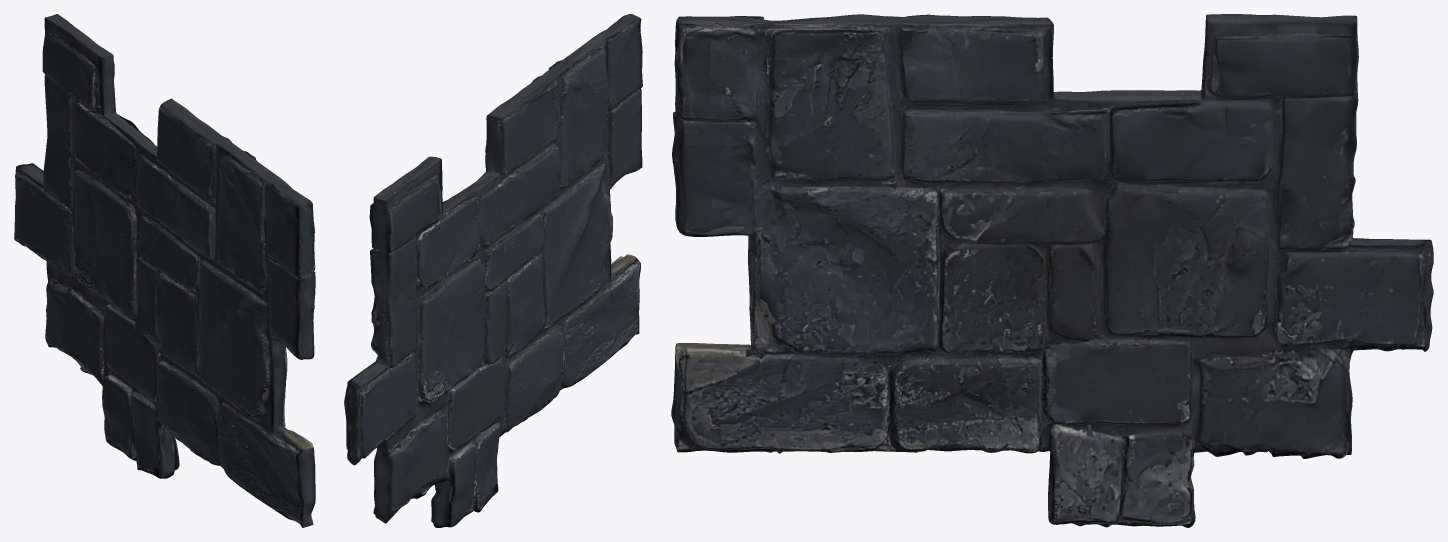
File: ashlar.glb
The picture shows the model from 3 angles, left to right: view 1: azimuth 30°, elevation 25°; view 2: azimuth 150°, elevation 25°; view 3: azimuth 270°, elevation 25°; orthographic projection. The views are drawn at different scales.
Parts seen in each view (by area): view 1: tripo_node_20243b7f-b279-41a2-a823-2312d67823d9; view 2: tripo_node_20243b7f-b279-41a2-a823-2312d67823d9; view 3: tripo_node_20243b7f-b279-41a2-a823-2312d67823d9.
Boxes of the visible parts, x1,y1,x2,y2 form: tripo_node_20243b7f-b279-41a2-a823-2312d67823d9: (14, 14, 315, 527); tripo_node_20243b7f-b279-41a2-a823-2312d67823d9: (344, 14, 642, 527); tripo_node_20243b7f-b279-41a2-a823-2312d67823d9: (671, 14, 1433, 527).
Size of the model in its own units: 0.0653 by 0.7409 by 0.9998.
Materials: 1 (1 with a texture image).
